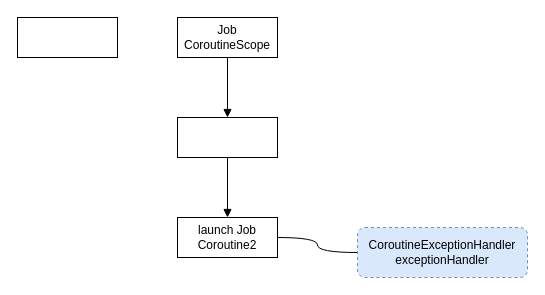
Some shapes in this 545 by 295 pixel diagram are drawn without their labels. The box of each missing label's shape, as (x1, y1, x2, y2) in pixels:
Job runBlocking: (16, 16, 118, 58)
launch Job Coroutine1: (176, 116, 278, 158)
